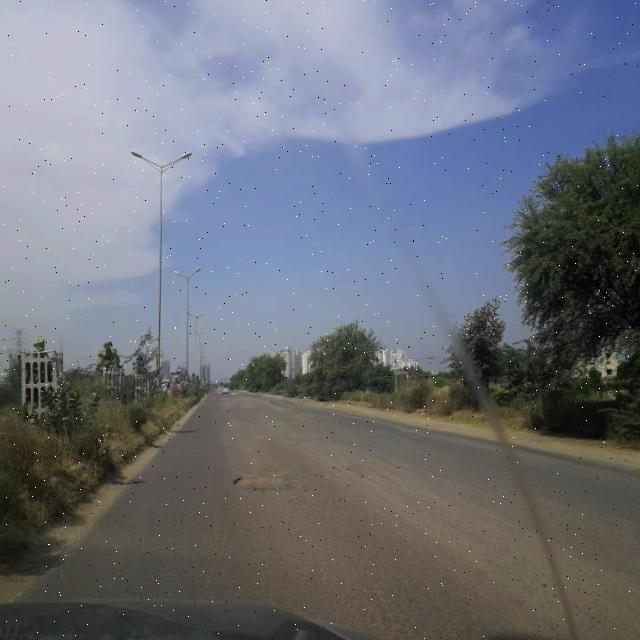D20: (145, 473, 518, 630)
D40: (230, 466, 302, 492)
